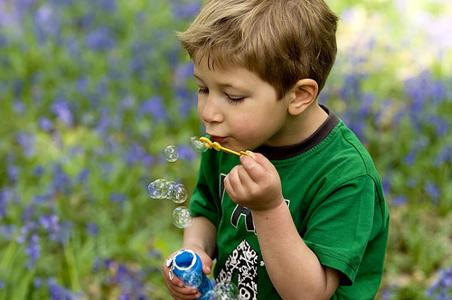person: (163, 2, 391, 300)
